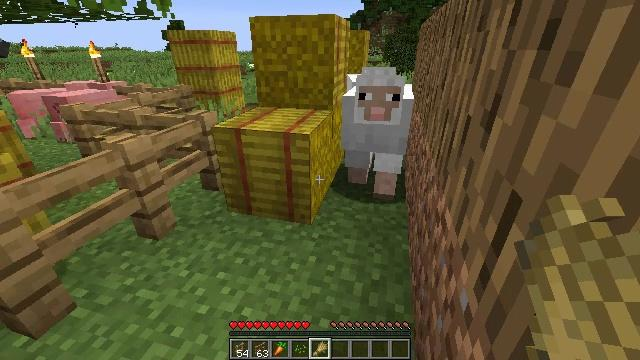pig: (41, 81, 131, 144), (9, 80, 95, 139)
sheep: (343, 68, 414, 196)
